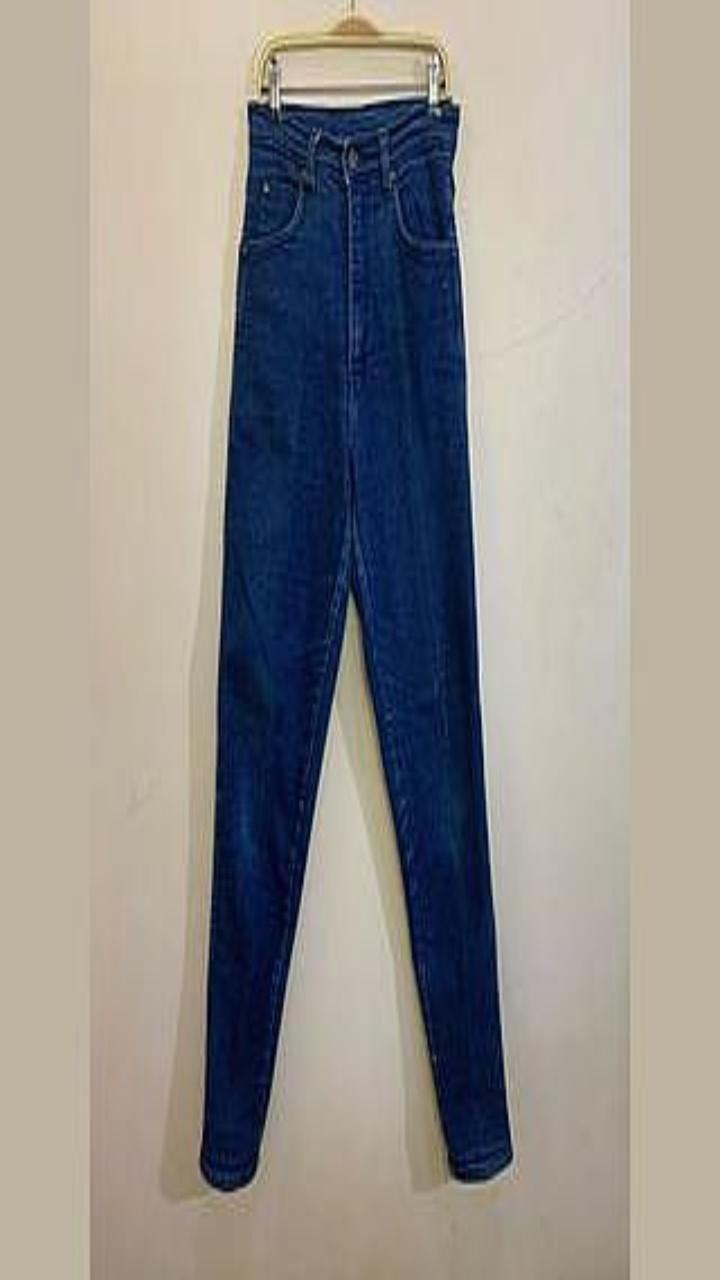Jeans: (200, 98, 511, 1189)
